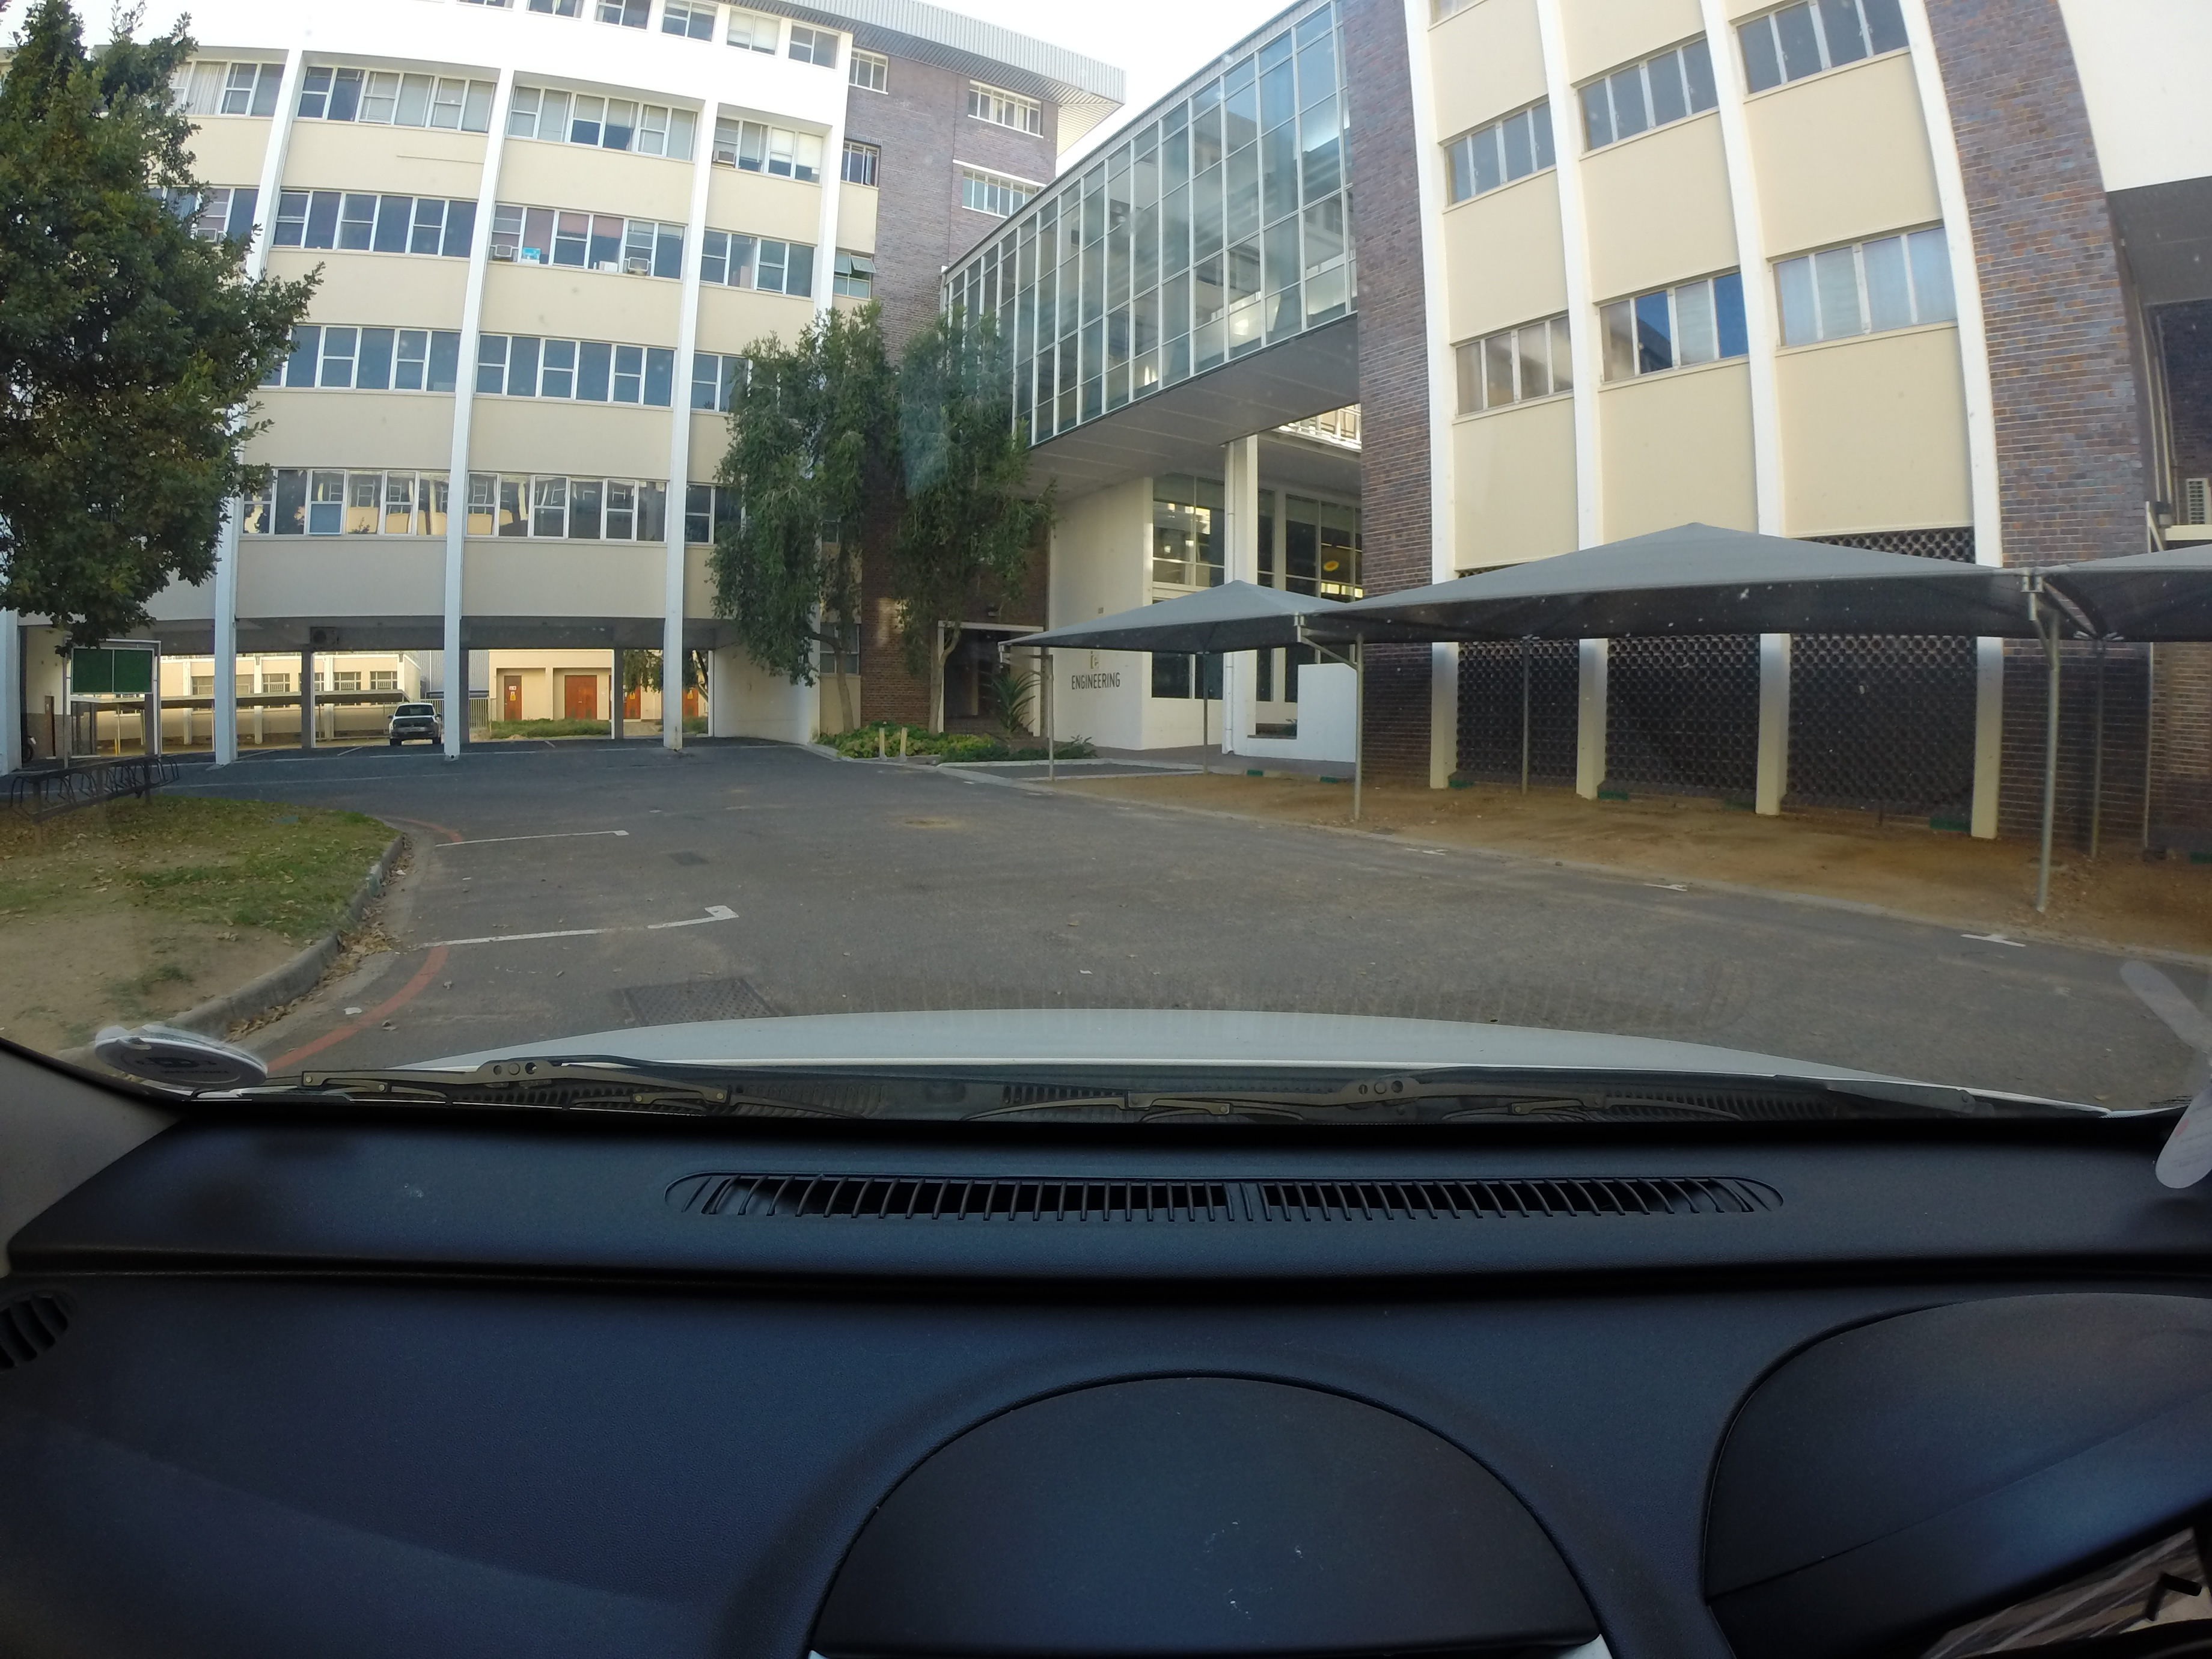pothole: (888, 816, 984, 826)
